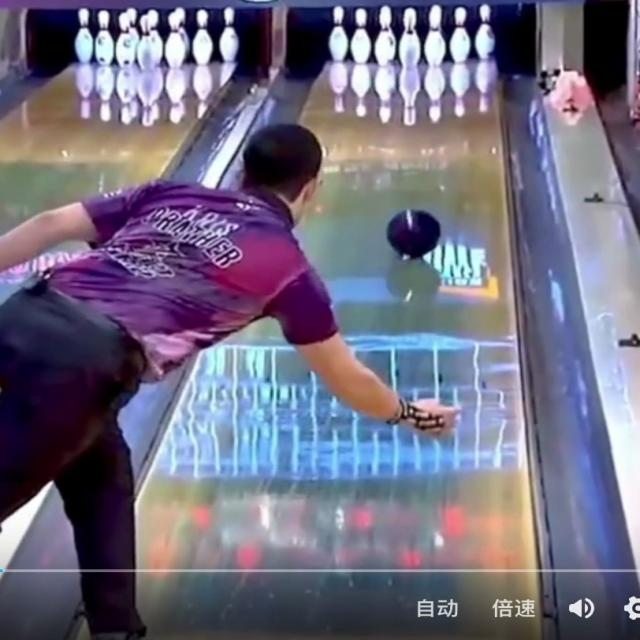alley: (139, 60, 539, 639)
balls: (387, 211, 441, 259)
bottle: (329, 4, 493, 67)
